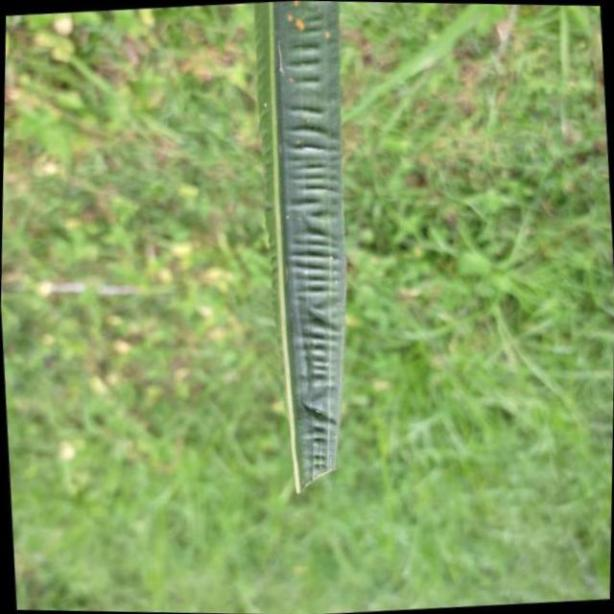Boron: (255, 0, 346, 500)
